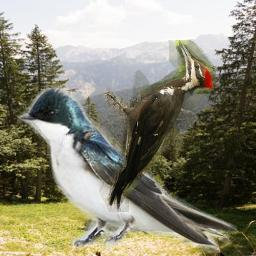Swallow: (17, 84, 237, 253)
Woodpecker: (99, 40, 216, 212)
